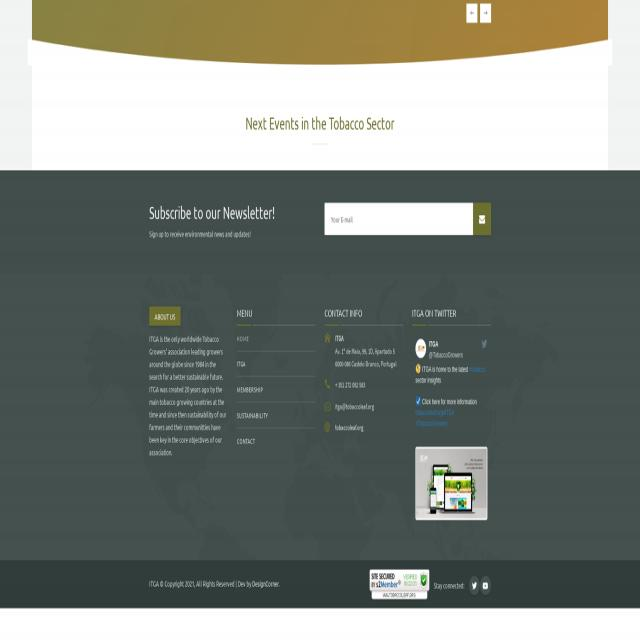button: (234, 428, 316, 453), (234, 328, 315, 352), (370, 569, 430, 600), (235, 354, 316, 376), (234, 379, 315, 401), (233, 404, 317, 425), (149, 307, 181, 327), (474, 203, 491, 236), (480, 576, 492, 596), (478, 336, 491, 354), (416, 340, 427, 360), (480, 5, 491, 23), (469, 577, 480, 594), (467, 5, 477, 23)
field: (324, 202, 474, 234), (416, 396, 478, 408)
